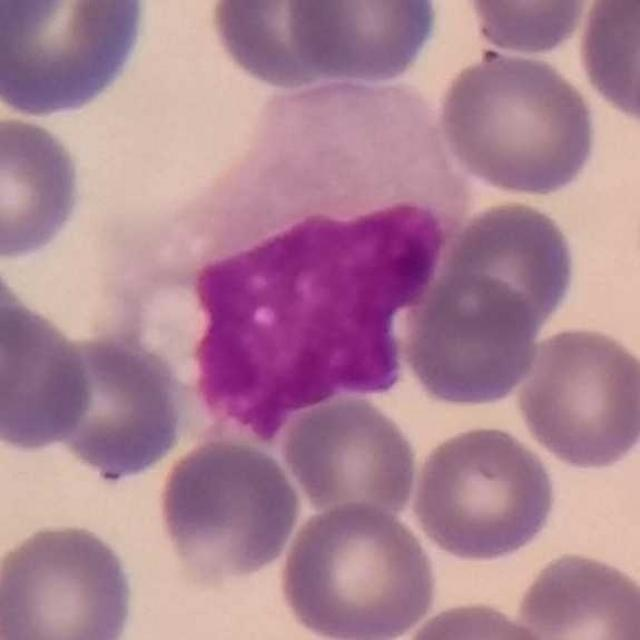Monocyte: (98, 70, 474, 435)
RBC: (434, 47, 601, 199), (275, 498, 441, 640), (153, 434, 304, 587), (42, 333, 190, 484), (407, 421, 560, 564), (439, 196, 581, 338), (401, 270, 543, 410), (512, 322, 640, 473), (278, 391, 422, 523), (0, 0, 154, 120), (0, 518, 139, 640), (0, 296, 97, 455), (203, 1, 359, 92), (282, 0, 443, 87), (0, 111, 88, 264), (511, 546, 640, 640), (573, 0, 640, 128), (456, 0, 600, 58), (398, 597, 559, 640), (0, 257, 39, 421)
